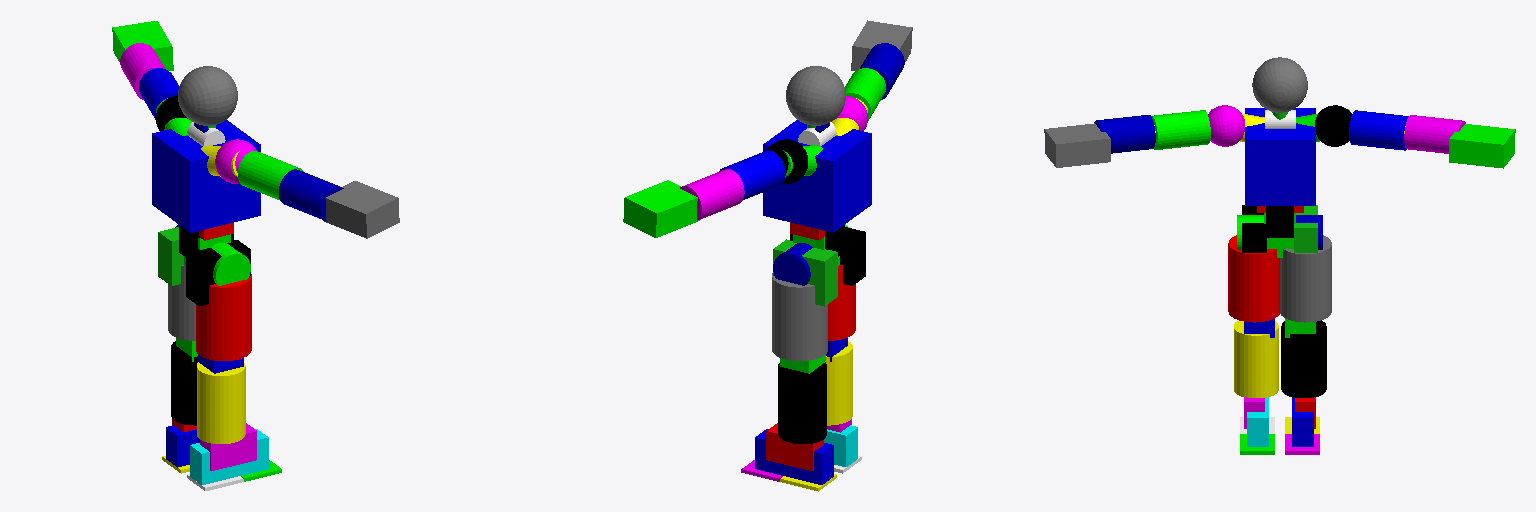
--- Facts derived from the render (not from the file) ---
Views: 3 orthographic renders of the robot side by side, from view 1: azimuth 30°, elevation 25°; view 2: azimuth 150°, elevation 25°; view 3: azimuth 270°, elevation 25°.
Robot: stickBot — 46 links, 45 joints (32 revolute, 13 fixed); root link root_link; default pose: joints at zero except 2 at the middle of their limits (r_shoulder_roll = 1.5, l_shoulder_roll = 1.5).
Links seen in each view (by area): view 1: chest, r_hip_3, r_lower_leg, r_hand, head, r_forearm, l_lower_leg, r_ankle_2, r_upper_arm, r_hip_2, l_hand, l_hip_3 (+9 smaller); view 2: chest, l_hip_3, l_lower_leg, l_hand, head, l_forearm, r_lower_leg, l_upper_arm, l_ankle_2, l_hip_2, r_hand, r_hip_3 (+9 smaller); view 3: chest, l_hip_3, r_hip_3, l_lower_leg, r_lower_leg, l_hand, r_hand, head, l_upper_arm, r_upper_arm, l_forearm, r_forearm (+7 smaller).
Link boxes in pixels (bbox=[...]): chest: bbox=[152, 120, 260, 232]; r_hip_3: bbox=[196, 274, 251, 360]; r_lower_leg: bbox=[197, 362, 245, 443]; r_hand: bbox=[323, 181, 399, 238]; head: bbox=[178, 66, 237, 125]; r_forearm: bbox=[279, 169, 343, 220]; l_lower_leg: bbox=[171, 341, 197, 425]; r_ankle_2: bbox=[190, 429, 268, 484]; r_upper_arm: bbox=[238, 151, 303, 199]; r_hip_2: bbox=[186, 240, 250, 306]; l_hand: bbox=[112, 21, 173, 70]; l_hip_3: bbox=[168, 265, 195, 340]; chest: bbox=[763, 120, 871, 232]; l_hip_3: bbox=[772, 273, 827, 360]; l_lower_leg: bbox=[778, 362, 826, 443]; l_hand: bbox=[623, 180, 699, 237]; head: bbox=[786, 66, 845, 125]; l_forearm: bbox=[680, 169, 744, 220]; r_lower_leg: bbox=[826, 341, 852, 425]; l_upper_arm: bbox=[719, 150, 785, 199]; l_ankle_2: bbox=[755, 429, 833, 484]; l_hip_2: bbox=[773, 239, 837, 306]; r_hand: bbox=[851, 20, 912, 70]; r_hip_3: bbox=[828, 265, 855, 340]; chest: bbox=[1245, 108, 1315, 205]; l_hip_3: bbox=[1280, 235, 1331, 322]; r_hip_3: bbox=[1228, 235, 1279, 322]; l_lower_leg: bbox=[1281, 320, 1326, 397]; r_lower_leg: bbox=[1234, 320, 1278, 397]; l_hand: bbox=[1449, 124, 1515, 168]; r_hand: bbox=[1044, 123, 1110, 167]; head: bbox=[1252, 57, 1307, 112]; l_upper_arm: bbox=[1349, 110, 1408, 150]; r_upper_arm: bbox=[1151, 110, 1210, 149]; l_forearm: bbox=[1404, 115, 1465, 153]; r_forearm: bbox=[1094, 115, 1155, 153].
Size in the robot's own frame: 0.3324 by 1.35 by 1.18 metres.
Geometry: primitives only (box / cylinder / sphere), no mesh files.

robot.urdf — stickBot:
<?xml version='1.0' encoding='UTF-8'?>
<robot name="stickBot">
  <link name="root_link">
    <inertial>
      <origin xyz="0.0 0.0 0.0" rpy="0.0 0.0 -1.5707963267948966"/>
      <mass value="2.52649319"/>
      <inertia ixx="0.02" ixy="0.0" ixz="0.0" iyy="0.02" iyz="0.0" izz="0.02"/>
      <!--TODO: Real inertia for this link is 0.01 but this makes model unusable-->
      <!--remove when https://github.com/icub-tech-iit/ergocub-gazebo-simulations/issues/18 is fixed -->
    </inertial>
    <visual>
      <geometry>
        <box size="0.093 0.095 0.142"/>
      </geometry>
      <material name="green"/>
      <origin xyz="0.0 0.0 0.0" rpy="0.0 0.0 -1.5707963267948966"/>
    </visual>
  </link>
  <link name="torso_1">
    <inertial>
      <origin xyz="0.0 0.0 0.075" rpy="0.0 0.0 -1.5707963267948966"/>
      <mass value="1.714262538"/>
      <inertia ixx="0.01" ixy="0.0" ixz="0.0" iyy="0.01" iyz="0.0" izz="0.01"/>
    </inertial>
    <visual>
      <geometry>
        <box size="0.081  0.124  0.1505"/>
      </geometry>
      <material name="black"/>
      <origin xyz="0.0 0.0 0.075" rpy="0.0 0.0 -1.5707963267948966"/>
    </visual>
  </link>
  <link name="torso_2">
    <inertial>
      <origin xyz="0.0 0.0 0.0669" rpy="0.0 0.0 -1.5707963267948966"/>
      <mass value="1.374672951"/>
      <inertia ixx="0.01" ixy="0.0" ixz="0.0" iyy="0.01" iyz="0.0" izz="0.01"/>
    </inertial>
    <visual>
      <geometry>
        <box size="0.1356 0.0897 0.1338"/>
      </geometry>
      <material name="red"/>
      <origin xyz="0.0 0.0 0.0669" rpy="0.0 0.0 -1.5707963267948966"/>
    </visual>
  </link>
  <link name="chest">
    <inertial>
      <origin xyz="0.0 0.0 0.09138800000000014" rpy="0.0 0.0 -1.5707963267948966"/>
      <mass value="5.771074695"/>
      <inertia ixx="0.0433194564569098" ixy="0.0" ixz="0.0" iyy="0.04108113070876732" iyz="0.0" izz="0.042305752759046314"/>
    </inertial>
    <visual>
      <geometry>
        <box size="0.2041 0.2152 0.2092"/>
      </geometry>
      <material name="blue"/>
      <origin xyz="0.0 0.0 0.09138800000000014" rpy="0.0 0.0 -1.5707963267948966"/>
    </visual>
  </link>
  <link name="r_shoulder_1">
    <inertial>
      <origin xyz="0.0 -0.07445 0.0" rpy="-0.19999999999999998 1.5549999999999993 -1.840815419889917"/>
      <mass value="1.380716446"/>
      <inertia ixx="0.01" ixy="0.0" ixz="0.0" iyy="0.01" iyz="0.0" izz="0.01"/>
    </inertial>
    <visual>
      <geometry>
        <cylinder radius="0.04" length="0.1569"/>
      </geometry>
      <material name="yellow"/>
      <origin xyz="0.0 -0.07445 0.0" rpy="-0.19999999999999998 1.5549999999999993 -1.840815419889917"/>
    </visual>
  </link>
  <link name="r_shoulder_2">
    <inertial>
      <origin xyz="0.0 0.0 0.0" rpy="-0.07156446033079357 0.06196992338505823 -1.8462350402422587"/>
      <mass value="0.304658373"/>
      <inertia ixx="0.01" ixy="0.0" ixz="0.0" iyy="0.01" iyz="0.0" izz="0.01"/>
    </inertial>
    <visual>
      <geometry>
        <sphere radius="0.06"/>
      </geometry>
      <material name="pink"/>
      <origin xyz="0.0 0.0 0.0" rpy="-0.07156446033079357 0.06196992338505823 -1.8462350402422587"/>
    </visual>
  </link>
  <link name="r_shoulder_3">
    <inertial>
      <origin xyz="0.0 0.0 -0.01" rpy="-0.07156446033079357 0.06196992338505823 -1.8462350402422587"/>
      <mass value="0.24467077"/>
      <inertia ixx="0.01" ixy="0.0" ixz="0.0" iyy="0.01" iyz="0.0" izz="0.01"/>
    </inertial>
    <visual>
      <geometry>
        <cylinder radius="0.03" length="0.03"/>
      </geometry>
      <material name="cyan"/>
      <origin xyz="0.0 0.0 -0.01" rpy="-0.07156446033079357 0.06196992338505823 -1.8462350402422587"/>
    </visual>
  </link>
  <link name="r_upper_arm">
    <inertial>
      <origin xyz="0.0 0.0 -0.05705" rpy="0.0 0.0 -1.8462350402422587"/>
      <mass value="1.960447492"/>
      <inertia ixx="0.01" ixy="0.0" ixz="0.0" iyy="0.01" iyz="0.0" izz="0.01"/>
    </inertial>
    <visual>
      <geometry>
        <cylinder radius="0.05" length="0.1581"/>
      </geometry>
      <material name="green"/>
      <origin xyz="0.0 0.0 -0.05705" rpy="0.0 0.0 -1.8462350402422587"/>
    </visual>
  </link>
  <link name="r_elbow_1">
    <inertial>
      <origin xyz="-0.02 0.0 -0.02" rpy="-0.07156446033079357 0.06196992338505823 -1.8462350402422587"/>
      <mass value="0.217609341"/>
      <inertia ixx="0.01" ixy="0.0" ixz="0.0" iyy="0.01" iyz="0.0" izz="0.01"/>
    </inertial>
    <visual>
      <geometry>
        <sphere radius="0.04"/>
      </geometry>
      <material name="white"/>
      <origin xyz="-0.02 0.0 -0.02" rpy="-0.07156446033079357 0.06196992338505823 -1.8462350402422587"/>
    </visual>
  </link>
  <link name="r_forearm">
    <inertial>
      <origin xyz="-0.005 0.0 -0.04001" rpy="0.0 0.0 -1.8462350402422587"/>
      <mass value="0.854281652"/>
      <inertia ixx="0.01" ixy="0.0" ixz="0.0" iyy="0.01" iyz="0.0" izz="0.01"/>
    </inertial>
    <visual>
      <geometry>
        <cylinder radius="0.05" length="0.1581"/>
      </geometry>
      <material name="dblue"/>
      <origin xyz="-0.005 0.0 -0.04001" rpy="0.0 0.0 -1.8462350402422587"/>
    </visual>
    <collision>
      <geometry>
        <cylinder radius="0.05" length="0.1581"/>
      </geometry>
      <origin xyz="-0.005 0.0 -0.04001" rpy="0.0 0.0 -1.8462350402422587"/>
    </collision>
  </link>
  <link name="r_wrist_1">
    <inertial>
      <origin xyz="-0.015 0.0 0.0" rpy="3.0700281932589997 1.3345926535897934 0.11659265358979323"/>
      <mass value="0.032535096"/>
      <inertia ixx="0.01" ixy="0.0" ixz="0.0" iyy="0.01" iyz="0.0" izz="0.01"/>
    </inertial>
    <visual>
      <geometry>
        <cylinder radius="0.011" length="0.04"/>
      </geometry>
      <material name="dgreen"/>
      <origin xyz="-0.015 0.0 0.0" rpy="3.0700281932589997 1.3345926535897934 0.11659265358979323"/>
    </visual>
  </link>
  <link name="r_hand">
    <inertial>
      <origin xyz="0.025 0.0 -0.08105" rpy="0.0 0.0 0.0"/>
      <mass value="0.2499009"/>
      <inertia ixx="0.01" ixy="0.0" ixz="0.0" iyy="0.01" iyz="0.0" izz="0.01"/>
    </inertial>
    <visual>
      <geometry>
        <box size="0.124  0.0736 0.1621"/>
      </geometry>
      <material name="gray"/>
      <origin xyz="0.025 0.0 -0.08105" rpy="0.0 0.0 0.0"/>
    </visual>
    <collision>
      <geometry>
        <box size="0.124  0.0736 0.1621"/>
      </geometry>
      <origin xyz="0.025 0.0 -0.08105" rpy="0.0 0.0 0.0"/>
    </collision>
  </link>
  <link name="l_shoulder_1">
    <inertial>
      <origin xyz="0.0 0.07445 0.0" rpy="0.19999999999999998 1.5549999999999993 1.840815419889917"/>
      <mass value="1.376687449"/>
      <inertia ixx="0.01" ixy="0.0" ixz="0.0" iyy="0.01" iyz="0.0" izz="0.01"/>
    </inertial>
    <visual>
      <geometry>
        <cylinder radius="0.04" length="0.1569"/>
      </geometry>
      <material name="green"/>
      <origin xyz="0.0 0.07445 0.0" rpy="0.19999999999999998 1.5549999999999993 1.840815419889917"/>
    </visual>
  </link>
  <link name="l_shoulder_2">
    <inertial>
      <origin xyz="0.0 0.0 0.0" rpy="-0.07156449498805928 -0.06196998841864677 -1.2953574498236577"/>
      <mass value="0.304658373"/>
      <inertia ixx="0.01" ixy="0.0" ixz="0.0" iyy="0.01" iyz="0.0" izz="0.01"/>
    </inertial>
    <visual>
      <geometry>
        <sphere radius="0.06"/>
      </geometry>
      <material name="black"/>
      <origin xyz="0.0 0.0 0.0" rpy="-0.07156449498805928 -0.06196998841864677 -1.2953574498236577"/>
    </visual>
  </link>
  <link name="l_shoulder_3">
    <inertial>
      <origin xyz="0.0 0.0 -0.01" rpy="-0.07156449498805928 -0.06196998841864677 -1.2953574498236577"/>
      <mass value="0.242239185"/>
      <inertia ixx="0.01" ixy="0.0" ixz="0.0" iyy="0.01" iyz="0.0" izz="0.01"/>
    </inertial>
    <visual>
      <geometry>
        <cylinder radius="0.03" length="0.03"/>
      </geometry>
      <material name="red"/>
      <origin xyz="0.0 0.0 -0.01" rpy="-0.07156449498805928 -0.06196998841864677 -1.2953574498236577"/>
    </visual>
  </link>
  <link name="l_upper_arm">
    <inertial>
      <origin xyz="0.0 0.0 -0.05705" rpy="0.0 0.0 -1.2953574498236577"/>
      <mass value="1.968325789"/>
      <inertia ixx="0.01" ixy="0.0" ixz="0.0" iyy="0.01" iyz="0.0" izz="0.01"/>
    </inertial>
    <visual>
      <geometry>
        <cylinder radius="0.05" length="0.1581"/>
      </geometry>
      <material name="blue"/>
      <origin xyz="0.0 0.0 -0.05705" rpy="0.0 0.0 -1.2953574498236577"/>
    </visual>
  </link>
  <link name="l_elbow_1">
    <inertial>
      <origin xyz="-0.02 0.0 -0.02" rpy="-0.07156449498805928 -0.06196998841864677 -1.2953574498236577"/>
      <mass value="0.217768231"/>
      <inertia ixx="0.01" ixy="0.0" ixz="0.0" iyy="0.01" iyz="0.0" izz="0.01"/>
    </inertial>
    <visual>
      <geometry>
        <sphere radius="0.04"/>
      </geometry>
      <material name="yellow"/>
      <origin xyz="-0.02 0.0 -0.02" rpy="-0.07156449498805928 -0.06196998841864677 -1.2953574498236577"/>
    </visual>
  </link>
  <link name="l_forearm">
    <inertial>
      <origin xyz="-0.005 0.0 -0.04001" rpy="0.0 0.0 -1.2953574498236577"/>
      <mass value="0.858696525"/>
      <inertia ixx="0.01" ixy="0.0" ixz="0.0" iyy="0.01" iyz="0.0" izz="0.01"/>
    </inertial>
    <visual>
      <geometry>
        <cylinder radius="0.05" length="0.1581"/>
      </geometry>
      <material name="pink"/>
      <origin xyz="-0.005 0.0 -0.04001" rpy="0.0 0.0 -1.2953574498236577"/>
    </visual>
    <collision>
      <geometry>
        <cylinder radius="0.05" length="0.1581"/>
      </geometry>
      <origin xyz="-0.005 0.0 -0.04001" rpy="0.0 0.0 -1.2953574498236577"/>
    </collision>
  </link>
  <link name="l_wrist_1">
    <inertial>
      <origin xyz="-0.015 0.0 0.0" rpy="3.0700281932589997 1.3345926535897934 0.11659265358979323"/>
      <mass value="0.032535096"/>
      <inertia ixx="0.01" ixy="0.0" ixz="0.0" iyy="0.01" iyz="0.0" izz="0.01"/>
    </inertial>
    <visual>
      <geometry>
        <cylinder radius="0.011" length="0.04"/>
      </geometry>
      <material name="cyan"/>
      <origin xyz="-0.015 0.0 0.0" rpy="3.0700281932589997 1.3345926535897934 0.11659265358979323"/>
    </visual>
  </link>
  <link name="l_hand">
    <inertial>
      <origin xyz="0.025 0.0 -0.08105" rpy="0.0 0.0 0.0"/>
      <mass value="0.249250207"/>
      <inertia ixx="0.01" ixy="0.0" ixz="0.0" iyy="0.01" iyz="0.0" izz="0.01"/>
    </inertial>
    <visual>
      <geometry>
        <box size="0.124  0.0736 0.1621"/>
      </geometry>
      <material name="green"/>
      <origin xyz="0.025 0.0 -0.08105" rpy="0.0 0.0 0.0"/>
    </visual>
    <collision>
      <geometry>
        <box size="0.124  0.0736 0.1621"/>
      </geometry>
      <origin xyz="0.025 0.0 -0.08105" rpy="0.0 0.0 0.0"/>
    </collision>
  </link>
  <link name="neck_1">
    <inertial>
      <origin xyz="0.004 0.0 0.03500000000000002" rpy="-1.5707963267948968 0.0 0.0"/>
      <mass value="0.359964395"/>
      <inertia ixx="0.01" ixy="0.0" ixz="0.0" iyy="0.01" iyz="0.0" izz="0.01"/>
    </inertial>
    <visual>
      <geometry>
        <cylinder radius="0.033" length="0.089"/>
      </geometry>
      <material name="white"/>
      <origin xyz="0.004 0.0 0.03500000000000002" rpy="-1.5707963267948968 0.0 0.0"/>
    </visual>
  </link>
  <link name="neck_2">
    <inertial>
      <origin xyz="-0.02 0.0 0.015" rpy="-1.5707963267948968 0.0 -1.5707963267948968"/>
      <mass value="0.118740971"/>
      <inertia ixx="0.01" ixy="0.0" ixz="0.0" iyy="0.01" iyz="0.0" izz="0.01"/>
    </inertial>
    <visual>
      <geometry>
        <cylinder radius="0.027" length="0.013"/>
      </geometry>
      <material name="dblue"/>
      <origin xyz="-0.02 0.0 0.015" rpy="-1.5707963267948968 0.0 -1.5707963267948968"/>
    </visual>
  </link>
  <link name="neck_3">
    <inertial>
      <origin xyz="0.0 0.0 0.028" rpy="0.0 0.0 -1.5707963267948968"/>
      <mass value="0.179822835"/>
      <inertia ixx="0.01" ixy="0.0" ixz="0.0" iyy="0.01" iyz="0.0" izz="0.01"/>
    </inertial>
    <visual>
      <geometry>
        <cylinder radius="0.0225" length="0.09"/>
      </geometry>
      <material name="dgreen"/>
      <origin xyz="0.0 0.0 0.028" rpy="0.0 0.0 -1.5707963267948968"/>
    </visual>
  </link>
  <link name="head">
    <inertial>
      <origin xyz="0.0 0.0 0.025" rpy="-1.5707963267948966 0.0 -1.5707963267948966"/>
      <mass value="1.831737118"/>
      <inertia ixx="0.001" ixy="0.0" ixz="0.0" iyy="0.001" iyz="0.0" izz="0.001"/>
    </inertial>
    <visual>
      <geometry>
        <sphere radius="0.08"/>
      </geometry>
      <material name="gray"/>
      <origin xyz="0.0 0.0 0.025" rpy="-1.5707963267948966 0.0 -1.5707963267948966"/>
    </visual>
  </link>
  <!--<link name="camera_tilt">
    <inertial>
      <origin xyz="0.0 0.0 0.0" rpy="0.0 0.0 0.0"/>
      <mass value="0.06"/>
      <inertia ixx="0.0001" ixy="0.0" ixz="0.0" iyy="0.0001" iyz="0.0" izz="0.0001"/>
    </inertial>
    <visual>
      <geometry>
        <cylinder radius="0.03" length="0.09"/>
      </geometry>
      <material name="blue"/>
      <origin xyz="0.0 0.0 0.0" rpy="0.0 0.0 0.0"/>
    </visual>
  </link> -->
 <!-- <link name="lidar">
    <inertial>
      <origin xyz="0.0 0.0 0.17" rpy="0.0 0.0 0.0"/>
      <mass value="0.2"/>
      <inertia ixx="0.001" ixy="0.0" ixz="0.0" iyy="0.001" iyz="0.0" izz="0.001"/>
    </inertial>
    <visual>
      <geometry>
        <cylinder radius="0.04" length="0.04"/>
      </geometry>
      <material name="blue"/>
      <origin xyz="0.0 0.0 0.0" rpy="0.0 0.0 0.0"/>
    </visual>
  </link> -->
  <link name="r_hip_1">
    <inertial>
      <origin xyz="-0.01 -0.041826 -0.01" rpy="1.5707963267948966 1.5707963267948966 0.0"/>
      <mass value="2.134290199"/>
      <inertia ixx="0.001" ixy="0.0" ixz="0.0" iyy="0.001" iyz="0.0" izz="0.001"/>
    </inertial>
    <visual>
      <geometry>
        <cylinder radius="0.0535" length="0.083652"/>
      </geometry>
      <material name="green"/>
      <origin xyz="-0.01 -0.041826 -0.01" rpy="1.5707963267948966 1.5707963267948966 0.0"/>
    </visual>
  </link>
  <link name="r_hip_2">
    <inertial>
      <origin xyz="0.02 0.0 -0.02" rpy="0.0 0.0 -1.5707963267948966"/>
      <mass value="1.779000764"/>
      <inertia ixx="0.001" ixy="0.0" ixz="0.0" iyy="0.001" iyz="0.0" izz="0.001"/>
    </inertial>
    <visual>
      <geometry>
        <box size="0.0702 0.1578 0.1315"/>
      </geometry>
      <material name="black"/>
      <origin xyz="0.02 0.0 -0.02" rpy="0.0 0.0 -1.5707963267948966"/>
    </visual>
  </link>
  <link name="r_hip_3">
    <inertial>
      <origin xyz="0.0 0.0 -0.049999999999999996" rpy="0.0 0.0 -1.5707963267948966"/>
      <mass value="2.1678368"/>
      <inertia ixx="0.0114770699784" ixy="0.0" ixz="0.0" iyy="0.0114770699784" iyz="0.0" izz="0.01"/>
    </inertial>
    <visual>
      <geometry>
        <cylinder radius="0.075" length="0.216"/>
      </geometry>
      <material name="red"/>
      <origin xyz="0.0 0.0 -0.049999999999999996" rpy="0.0 0.0 -1.5707963267948966"/>
    </visual>
  </link>
  <link name="r_upper_leg">
    <inertial>
      <origin xyz="0.0 0.0 -0.07" rpy="-1.5707963267948966 0.0 0.0"/>
      <mass value="0.980691904"/>
      <inertia ixx="0.001" ixy="0.0" ixz="0.0" iyy="0.001" iyz="0.0" izz="0.001"/>
    </inertial>
    <visual>
      <geometry>
        <box size="0.0908 0.1598 0.0878"/>
      </geometry>
      <material name="blue"/>
      <origin xyz="0.0 0.0 -0.07" rpy="-1.5707963267948966 0.0 0.0"/>
    </visual>
  </link>
  <link name="r_lower_leg">
    <inertial>
      <origin xyz="-0.02 0.015 -0.13" rpy="0.0 0.0 -1.5707963267948966"/>
      <mass value="5.074105512"/>
      <inertia ixx="0.022273208987050007" ixy="0.0" ixz="0.0" iyy="0.022273208987050007" iyz="0.0" izz="0.010719047894100001"/>
    </inertial>
    <visual>
      <geometry>
        <cylinder radius="0.065" length="0.2"/>
      </geometry>
      <material name="yellow"/>
      <origin xyz="-0.02 0.015 -0.13" rpy="0.0 0.0 -1.5707963267948966"/>
    </visual>
  </link>
  <link name="r_ankle_1">
    <inertial>
      <origin xyz="0.0 0.01 -0.015" rpy="0.0 1.5707963267948966 0.0"/>
      <mass value="0.346176903"/>
      <inertia ixx="0.001" ixy="0.0" ixz="0.0" iyy="0.001" iyz="0.0" izz="0.001"/>
    </inertial>
    <visual>
      <geometry>
        <box size="0.085207  0.0601674 0.14254  "/>
      </geometry>
      <material name="pink"/>
      <origin xyz="0.0 0.01 -0.015" rpy="0.0 1.5707963267948966 0.0"/>
    </visual>
  </link>
  <link name="r_ankle_2">
    <inertial>
      <origin xyz="0.06 0.0 -0.014" rpy="0.0 1.5707963267948966 0.0"/>
      <mass value="1.00828013"/>
      <inertia ixx="0.001" ixy="0.0" ixz="0.0" iyy="0.001" iyz="0.0" izz="0.001"/>
    </inertial>
    <visual>
      <geometry>
        <box size="0.0927 0.0634 0.2055"/>
      </geometry>
      <material name="cyan"/>
      <origin xyz="0.06 0.0 -0.014" rpy="0.0 1.5707963267948966 0.0"/>
    </visual>
  </link>
  <link name="r_foot_front">
    <inertial>
      <origin xyz="0.0 0.0 0.0" rpy="0.0 0.0 -1.5707963267948966"/>
      <mass value="0.17569926"/>
      <inertia ixx="0.001" ixy="0.0" ixz="0.0" iyy="0.001" iyz="0.0" izz="0.001"/>
    </inertial>
    <visual>
      <geometry>
        <box size="0.1    0.117  0.0103"/>
      </geometry>
      <material name="green"/>
      <origin xyz="0.0 0.0 0.0" rpy="0.0 0.0 -1.5707963267948966"/>
    </visual>
    <collision>
      <geometry>
        <box size="0.1    0.117  0.0103"/>
      </geometry>
      <origin xyz="0.0 0.0 0.0" rpy="0.0 0.0 -1.5707963267948966"/>
    </collision>
  </link>
  <link name="r_foot_rear">
    <inertial>
      <origin xyz="0.0 0.0 0.0" rpy="0.0 0.0 -1.5707963267948966"/>
      <mass value="0.174817799"/>
      <inertia ixx="0.001" ixy="0.0" ixz="0.0" iyy="0.001" iyz="0.0" izz="0.001"/>
    </inertial>
    <visual>
      <geometry>
        <box size="0.1    0.117  0.0103"/>
      </geometry>
      <material name="white"/>
      <origin xyz="0.0 0.0 0.0" rpy="0.0 0.0 -1.5707963267948966"/>
    </visual>
    <collision>
      <geometry>
        <box size="0.1    0.117  0.0103"/>
      </geometry>
      <origin xyz="0.0 0.0 0.0" rpy="0.0 0.0 -1.5707963267948966"/>
    </collision>
  </link>
  <link name="l_hip_1">
    <inertial>
      <origin xyz="-0.01 0.041826 -0.01" rpy="1.5707963267948966 1.5707963267948966 0.0"/>
      <mass value="2.108461113"/>
      <inertia ixx="0.001" ixy="0.0" ixz="0.0" iyy="0.001" iyz="0.0" izz="0.001"/>
    </inertial>
    <visual>
      <geometry>
        <cylinder radius="0.0535" length="0.083652"/>
      </geometry>
      <material name="dblue"/>
      <origin xyz="-0.01 0.041826 -0.01" rpy="1.5707963267948966 1.5707963267948966 0.0"/>
    </visual>
  </link>
  <link name="l_hip_2">
    <inertial>
      <origin xyz="0.02 0.0 -0.02" rpy="0.0 0.0 -1.5707963267948966"/>
      <mass value="1.781270621"/>
      <inertia ixx="0.001" ixy="0.0" ixz="0.0" iyy="0.001" iyz="0.0" izz="0.001"/>
    </inertial>
    <visual>
      <geometry>
        <box size="0.0702 0.1578 0.1315"/>
      </geometry>
      <material name="dgreen"/>
      <origin xyz="0.02 0.0 -0.02" rpy="0.0 0.0 -1.5707963267948966"/>
    </visual>
  </link>
  <link name="l_hip_3">
    <inertial>
      <origin xyz="0.0 0.0 -0.049999999999999996" rpy="0.0 0.0 -1.5707963267948966"/>
      <mass value="2.169151426"/>
      <inertia ixx="0.011484029937100501" ixy="0.0" ixz="0.0" iyy="0.011484029937100501" iyz="0.0" izz="0.01"/>
    </inertial>
    <visual>
      <geometry>
        <cylinder radius="0.075" length="0.216"/>
      </geometry>
      <material name="gray"/>
      <origin xyz="0.0 0.0 -0.049999999999999996" rpy="0.0 0.0 -1.5707963267948966"/>
    </visual>
  </link>
  <link name="l_upper_leg">
    <inertial>
      <origin xyz="0.0 0.0 -0.07" rpy="-1.5707963267948966 0.0 0.0"/>
      <mass value="0.968264435"/>
      <inertia ixx="0.001" ixy="0.0" ixz="0.0" iyy="0.001" iyz="0.0" izz="0.001"/>
    </inertial>
    <visual>
      <geometry>
        <box size="0.0908 0.1598 0.0878"/>
      </geometry>
      <material name="green"/>
      <origin xyz="0.0 0.0 -0.07" rpy="-1.5707963267948966 0.0 0.0"/>
    </visual>
  </link>
  <link name="l_lower_leg">
    <inertial>
      <origin xyz="-0.02 -0.015 -0.13" rpy="0.0 0.0 -1.5707963267948966"/>
      <mass value="5.063049414"/>
      <inertia ixx="0.022224677323537508" ixy="0.0" ixz="0.0" iyy="0.022224677323537508" iyz="0.0" izz="0.010695691887075"/>
    </inertial>
    <visual>
      <geometry>
        <cylinder radius="0.065" length="0.2"/>
      </geometry>
      <material name="black"/>
      <origin xyz="-0.02 -0.015 -0.13" rpy="0.0 0.0 -1.5707963267948966"/>
    </visual>
  </link>
  <link name="l_ankle_1">
    <inertial>
      <origin xyz="0.0 -0.01 -0.015" rpy="0.0 1.5707963267948966 0.0"/>
      <mass value="0.3461769035"/>
      <inertia ixx="0.001" ixy="0.0" ixz="0.0" iyy="0.001" iyz="0.0" izz="0.001"/>
    </inertial>
    <visual>
      <geometry>
        <box size="0.085207  0.0601674 0.14254  "/>
      </geometry>
      <material name="red"/>
      <origin xyz="0.0 -0.01 -0.015" rpy="0.0 1.5707963267948966 0.0"/>
    </visual>
  </link>
  <link name="l_ankle_2">
    <inertial>
      <origin xyz="0.06 0.0 -0.014" rpy="0.0 1.5707963267948966 0.0"/>
      <mass value="1.011533592"/>
      <inertia ixx="0.001" ixy="0.0" ixz="0.0" iyy="0.001" iyz="0.0" izz="0.001"/>
    </inertial>
    <visual>
      <geometry>
        <box size="0.0927 0.0634 0.2055"/>
      </geometry>
      <material name="blue"/>
      <origin xyz="0.06 0.0 -0.014" rpy="0.0 1.5707963267948966 0.0"/>
    </visual>
  </link>
  <link name="l_foot_rear">
    <inertial>
      <origin xyz="0.0 0.0 0.0" rpy="0.0 0.0 -1.5707963267948966"/>
      <mass value="0.174597434"/>
      <inertia ixx="0.01" ixy="0.0" ixz="0.0" iyy="0.01" iyz="0.0" izz="0.01"/>
    </inertial>
    <visual>
      <geometry>
        <box size="0.1    0.117  0.0103"/>
      </geometry>
      <material name="yellow"/>
      <origin xyz="0.0 0.0 0.0" rpy="0.0 0.0 -1.5707963267948966"/>
    </visual>
    <collision>
      <geometry>
        <box size="0.1    0.117  0.0103"/>
      </geometry>
      <origin xyz="0.0 0.0 0.0" rpy="0.0 0.0 -1.5707963267948966"/>
    </collision>
  </link>
  <link name="l_foot_front">
    <inertial>
      <origin xyz="0.0 0.0 0.0" rpy="0.0 0.0 -1.5707963267948966"/>
      <mass value="0.175038164"/>
      <inertia ixx="0.001" ixy="0.0" ixz="0.0" iyy="0.001" iyz="0.0" izz="0.001"/>
    </inertial>
    <visual>
      <geometry>
        <box size="0.1    0.117  0.0103"/>
      </geometry>
      <material name="pink"/>
      <origin xyz="0.0 0.0 0.0" rpy="0.0 0.0 -1.5707963267948966"/>
    </visual>
    <collision>
      <geometry>
        <box size="0.1    0.117  0.0103"/>
      </geometry>
      <origin xyz="0.0 0.0 0.0" rpy="0.0 0.0 -1.5707963267948966"/>
    </collision>
  </link>
  <link name="base_link"/>
  <link name="l_sole"/>
  <link name="r_sole"/>
  <link name="imu_frame"/>
  <joint name="torso_roll" type="revolute">
    <dynamics damping="2.0" friction="0.0"/>
    <limit effort="50000.0" velocity="120.0" lower="-0.4014257279586958" upper="0.4014257279586958"/>
    <parent link="root_link"/>
    <child link="torso_1"/>
    <axis xyz="-1.  0.  0."/>
    <origin xyz="0.0 0.0 0.0" rpy="0.0 0.0 0.0"/>
  </joint>
  <joint name="torso_pitch" type="revolute">
    <dynamics damping="2.0" friction="0.0"/>
    <limit effort="50000.0" velocity="120.0" lower="-0.3141592653589793" upper="0.7853981633974483"/>
    <parent link="torso_1"/>
    <child link="torso_2"/>
    <axis xyz="0. 1. 0."/>
    <origin xyz="0.0 0.0 0.0725" rpy="0.0 0.0 0.0"/>
  </joint>
  <joint name="torso_yaw" type="revolute">
    <dynamics damping="2.0" friction="0.0"/>
    <limit effort="50000.0" velocity="120.0" lower="-0.7504915783575618" upper="0.7504915783575618"/>
    <parent link="torso_2"/>
    <child link="chest"/>
    <axis xyz=" 0.  0. -1."/>
    <origin xyz="0.0 0.0 0.06447" rpy="0.0 0.0 0.0"/>
  </joint>
  <joint name="r_shoulder_pitch" type="revolute">
    <dynamics damping="2.0" friction="0.0"/>
    <limit effort="50000.0" velocity="120.0" lower="-1.53588974175501" upper="0.22689280275926285"/>
    <parent link="chest"/>
    <child link="r_shoulder_1"/>
    <axis xyz="0. 1. 0."/>
    <origin xyz="-0.03 -0.055555 0.163" rpy="-0.25326164431680925 0.0 0.26179970938509745"/>
  </joint>
  <joint name="r_shoulder_roll" type="revolute">
    <dynamics damping="2.0" friction="0.0"/>
    <limit effort="50000.0" velocity="120.0" lower="0.20943951023931956" upper="2.792526803190927"/>
    <parent link="r_shoulder_1"/>
    <child link="r_shoulder_2"/>
    <axis xyz="-1.00000000e+00  4.21050217e-08  2.46304855e-08"/>
    <origin xyz="0.007489008185044645 -0.11150041046657978 0.0004027858966975245" rpy="0.17453306234069357 -0.053747792579130614 0.0"/>
  </joint>
  <joint name="r_arm_ft_sensor" type="fixed">
    <dynamics damping="0.1"/>
    <parent link="r_shoulder_2"/>
    <child link="r_shoulder_3"/>
    <axis xyz="1. 0. 0."/>
    <origin xyz="-0.006849946385389875 2.1904996055921444e-07 -0.05429998157789099" rpy="0.0 0.0 0.0"/>
  </joint>
  <joint name="r_shoulder_yaw" type="revolute">
    <dynamics damping="2.0" friction="0.0"/>
    <limit effort="50000.0" velocity="120.0" lower="-0.8726646259971648" upper="1.3962634015954636"/>
    <parent link="r_shoulder_3"/>
    <child link="r_upper_arm"/>
    <axis xyz="-3.78762082e-08  2.80519699e-08  1.00000000e+00"/>
    <origin xyz="0.0 4.2183273077367467e-07 -0.022499941373153573" rpy="0.0 0.0 0.0"/>
  </joint>
  <joint name="r_elbow" type="revolute">
    <dynamics damping="2.0" friction="0.0"/>
    <limit effort="50000.0" velocity="120.0" lower="-0.05235987755982989" upper="1.3089969389957472"/>
    <parent link="r_upper_arm"/>
    <child link="r_elbow_1"/>
    <axis xyz=" 2.49495760e-07 -1.00000000e+00  2.79424794e-08"/>
    <origin xyz="0.009999931922603816 0.0014996401320274133 -0.12369999999999999" rpy="0.0 0.0 0.0"/>
  </joint>
  <joint name="r_wrist_prosup" type="revolute">
    <dynamics damping="2.0" friction="0.0"/>
    <limit effort="50000.0" velocity="120.0" lower="-1.53588974175501" upper="1.53588974175501"/>
    <parent link="r_elbow_1"/>
    <child link="r_forearm"/>
    <axis xyz="-3.78762082e-08  2.80519699e-08  1.00000000e+00"/>
    <origin xyz="-0.014999869468812953 -0.001999649905318951 -0.05530006367251966" rpy="0.0 0.0 0.0"/>
  </joint>
  <joint name="r_wrist_pitch" type="revolute">
    <dynamics damping="2.0" friction="0.0"/>
    <limit effort="50000.0" velocity="120.0" lower="-1.2217304763960306" upper="0.4363323129985824"/>
    <parent link="r_forearm"/>
    <child link="r_wrist_1"/>
    <axis xyz=" 1.00000000e+00 -4.21050217e-08 -2.46304855e-08"/>
    <origin xyz="0.016299953353948633 -0.002007442890811839 -0.10749999999999998" rpy="0.0 0.0 0.0"/>
  </joint>
  <joint name="r_wrist_yaw" type="revolute">
    <dynamics damping="2.0"/>
    <limit effort="50000.0" velocity="120.0" lower="-0.2617993877991494" upper="0.6108652381980153"/>
    <parent link="r_wrist_1"/>
    <child link="r_hand"/>
    <axis xyz="-2.49495760e-07  1.00000000e+00 -2.79424794e-08"/>
    <origin xyz="-0.016300122874272734 0.0069993900510918194 0.0" rpy="0.0 0.0 0.0"/>
  </joint>
  <joint name="l_shoulder_pitch" type="revolute">
    <dynamics damping="2.0" friction="0.0"/>
    <limit effort="50000.0" velocity="120.0" lower="-1.53588974175501" upper="0.22689280275926285"/>
    <parent link="chest"/>
    <child link="l_shoulder_1"/>
    <axis xyz="0. 1. 0."/>
    <origin xyz="-0.03 0.055555 0.163" rpy="0.25326164431680925 0.0 -0.26179970938509745"/>
  </joint>
  <joint name="l_shoulder_roll" type="revolute">
    <dynamics damping="2.0" friction="0.0"/>
    <limit effort="50000.0" velocity="120.0" lower="0.20943951023931956" upper="2.792526803190927"/>
    <parent link="l_shoulder_1"/>
    <child link="l_shoulder_2"/>
    <axis xyz=" 1.00000000e+00  2.03482562e-07 -4.02302354e-08"/>
    <origin xyz="0.007489008185044645 0.11150041046657978 0.0004027858966975245" rpy="-0.17453306234069357 -0.053747792579130614 0.0"/>
  </joint>
  <joint name="l_arm_ft_sensor" type="fixed">
    <dynamics damping="0.1"/>
    <parent link="l_shoulder_2"/>
    <child link="l_shoulder_3"/>
    <axis xyz="1. 0. 0."/>
    <origin xyz="-0.004350133156978329 3.632573233880443e-07 -0.05430003872406172" rpy="0.0 0.0 0.0"/>
  </joint>
  <joint name="l_shoulder_yaw" type="revolute">
    <dynamics damping="2.0" friction="0.0"/>
    <limit effort="50000.0" velocity="120.0" lower="-0.8726646259971648" upper="1.3962634015954636"/>
    <parent link="l_shoulder_3"/>
    <child link="l_upper_arm"/>
    <axis xyz=" 2.22764683e-08 -4.39378512e-08 -1.00000000e+00"/>
    <origin xyz="0.0 -4.2345248449371375e-07 -0.02249994137312443" rpy="0.0 0.0 0.0"/>
  </joint>
  <joint name="l_elbow" type="revolute">
    <dynamics damping="2.0" friction="0.0"/>
    <limit effort="50000.0" velocity="120.0" lower="-0.05235987755982989" upper="1.3089969389957472"/>
    <parent link="l_upper_arm"/>
    <child link="l_elbow_1"/>
    <axis xyz="-8.81182175e-08 -1.00000000e+00  4.40473491e-08"/>
    <origin xyz="0.009999930234919404 -0.001499647423428896 -0.12369999999999999" rpy="0.0 0.0 0.0"/>
  </joint>
  <joint name="l_wrist_prosup" type="revolute">
    <dynamics damping="2.0" friction="0.0"/>
    <limit effort="50000.0" velocity="120.0" lower="-1.53588974175501" upper="1.53588974175501"/>
    <parent link="l_elbow_1"/>
    <child link="l_forearm"/>
    <axis xyz=" 2.22764683e-08 -4.39378512e-08 -1.00000000e+00"/>
    <origin xyz="-0.014999870654177704 0.0019996435036348514 -0.055300063582479825" rpy="0.0 0.0 0.0"/>
  </joint>
  <joint name="l_wrist_pitch" type="revolute">
    <dynamics damping="2.0" friction="0.0"/>
    <limit effort="50000.0" velocity="120.0" lower="-1.2217304763960306" upper="0.4363323129985824"/>
    <parent link="l_forearm"/>
    <child link="l_wrist_1"/>
    <axis xyz="-1.00000000e+00 -2.03482562e-07  4.02302354e-08"/>
    <origin xyz="0.016600015934286182 0.002006895218072541 -0.10749999999999998" rpy="0.0 0.0 0.0"/>
  </joint>
  <joint name="l_wrist_yaw" type="revolute">
    <dynamics damping="2.0" friction="0.0"/>
    <limit effort="50000.0" velocity="120.0" lower="-0.2617993877991494" upper="0.6108652381980153"/>
    <parent link="l_wrist_1"/>
    <child link="l_hand"/>
    <axis xyz=" 8.81182175e-08  1.00000000e+00 -4.40473491e-08"/>
    <origin xyz="-0.016300121744729387 -0.0069993926815711816 0.0" rpy="0.0 0.0 0.0"/>
  </joint>
  <joint name="neck_fixed_joint" type="fixed">
    <dynamics damping="0.1"/>
    <parent link="chest"/>
    <child link="neck_1"/>
    <axis xyz="1. 0. 0."/>
    <origin xyz="-0.00378849 0.0 0.1683" rpy="0.0 0.0 0.0"/>
  </joint>
  <joint name="neck_pitch" type="revolute">
    <dynamics damping="2.0" friction="0.0"/>
    <limit effort="50000.0" velocity="120.0" lower="-0.5235987755982988" upper="0.3839724354387525"/>
    <parent link="neck_1"/>
    <child link="neck_2"/>
    <axis xyz=" 0. -1.  0."/>
    <origin xyz="0.00865 0.0 0.049000000000000016" rpy="0.0 0.0 0.0"/>
  </joint>
  <joint name="neck_roll" type="revolute">
    <dynamics damping="2.0" friction="0.0"/>
    <limit effort="50000.0" velocity="120.0" lower="-0.3490658503988659" upper="0.3490658503988659"/>
    <parent link="neck_2"/>
    <child link="neck_3"/>
    <axis xyz="1. 0. 0."/>
    <origin xyz="0.0 0.0 0.009500499999999995" rpy="0.0 0.0 0.0"/>
  </joint>
  <joint name="neck_yaw" type="revolute">
    <dynamics damping="2.0" friction="0.0"/>
    <limit effort="50000.0" velocity="120.0" lower="-0.7853981633974483" upper="0.7853981633974483"/>
    <parent link="neck_3"/>
    <child link="head"/>
    <axis xyz="-1.62554992e-21 -1.09999837e-15  1.00000000e+00"/>
    <origin xyz="0.0 0.0 0.06915000000000002" rpy="0.0 0.0 0.0"/>
  </joint>
 <!-- <joint name="camera_tilt_joint" type="revolute">
    <dynamics damping="0.06" friction="0.0"/>
    <limit effort="50000.0" velocity="120.0" lower="-0.7853981633974483" upper="0.7853981633974483"/>
    <parent link="head"/>
    <child link="camera_tilt"/>
    <axis xyz="0. 0. 1."/>
    <origin xyz="0.055513 0.00017 0.076925" rpy="1.5708 3.1415 0.0"/>
  </joint> -->
  <!--<joint name="lidar_joint" type="revolute">
    <dynamics damping="0.06" friction="0.0"/>
    <limit effort="50000.0" velocity="120.0" lower="-0.7853981633974483" upper="0.7853981633974483"/>
    <parent link="head"/>
    <child link="lidar"/>
    <axis xyz="0. 0. 1."/>
    <origin xyz="0.00117 0.00115 0.1268" rpy="0.0 0.0 0.0"/>
  </joint>-->
  <joint name="r_hip_pitch" type="revolute">
    <dynamics damping="2.0" friction="0.0"/>
    <limit effort="50000.0" velocity="120.0" lower="-0.7853981633974483" upper="2.007128639793479"/>
    <parent link="root_link"/>
    <child link="r_hip_1"/>
    <axis xyz=" 0. -1.  0."/>
    <origin xyz="0.0216 -0.040549999999999996 0.0" rpy="0.0 0.0 0.0"/>
  </joint>
  <joint name="r_hip_roll" type="revolute">
    <dynamics damping="2.0" friction="0.0"/>
    <limit effort="50000.0" velocity="120.0" lower="-0.17453292519943295" upper="2.007128639793479"/>
    <parent link="r_hip_1"/>
    <child link="r_hip_2"/>
    <axis xyz="-1.  0.  0."/>
    <origin xyz="-0.0473 -0.03310000000000001 -0.009000000000000008" rpy="0.0 0.0 0.0"/>
  </joint>
  <joint name="r_leg_ft_sensor" type="fixed">
    <dynamics damping="0.1"/>
    <parent link="r_hip_2"/>
    <child link="r_hip_3"/>
    <axis xyz="1. 0. 0."/>
    <origin xyz="0.036699999999999997 0.0 -0.08969999999999995" rpy="0.0 0.0 0.0"/>
  </joint>
  <joint name="r_hip_yaw" type="revolute">
    <dynamics damping="2.0" friction="0.0"/>
    <limit effort="50000.0" velocity="120.0" lower="-1.3962634015954636" upper="1.3962634015954636"/>
    <parent link="r_hip_3"/>
    <child link="r_upper_leg"/>
    <axis xyz=" 0.  0. -1."/>
    <origin xyz="0.0 0.015000000000000006 -0.07089999999999999" rpy="0.0 0.0 0.0"/>
  </joint>
  <joint name="r_knee" type="revolute">
    <dynamics damping="2.0" friction="0.0"/>
    <limit effort="50000.0" velocity="120.0" lower="-1.2217304763960306" upper="0.08726646259971647"/>
    <parent link="r_upper_leg"/>
    <child link="r_lower_leg"/>
    <axis xyz=" 0. -1.  0."/>
    <origin xyz="0.015000000000000003 -0.0249 -0.10619999999999999" rpy="0.0 0.0 0.0"/>
  </joint>
  <joint name="r_ankle_pitch" type="revolute">
    <dynamics damping="2.0" friction="0.0"/>
    <limit effort="50000.0" velocity="120.0" lower="-0.7853981633974483" upper="0.7853981633974483"/>
    <parent link="r_lower_leg"/>
    <child link="r_ankle_1"/>
    <axis xyz="0. 1. 0."/>
    <origin xyz="0.0 0.0005000000000000004 -0.255989" rpy="0.0 0.0 0.0"/>
  </joint>
  <joint name="r_ankle_roll" type="revolute">
    <dynamics damping="2.0" friction="0.0"/>
    <limit effort="50000.0" velocity="120.0" lower="-0.4363323129985824" upper="0.4363323129985824"/>
    <parent link="r_ankle_1"/>
    <child link="r_ankle_2"/>
    <axis xyz="-1.  0.  0."/>
    <origin xyz="-0.052750000000000005 0.018200000000000008 -0.03500000000000003" rpy="0.0 0.0 0.0"/>
  </joint>
  <joint name="r_foot_front_ft_sensor" type="fixed">
    <dynamics damping="0.1"/>
    <parent link="r_ankle_2"/>
    <child link="r_foot_front"/>
    <axis xyz="1. 0. 0."/>
    <origin xyz="0.13525 0.0 -0.06579999999999997" rpy="0.0 0.0 0.0"/>
  </joint>
  <joint name="r_foot_rear_ft_sensor" type="fixed">
    <dynamics damping="0.1"/>
    <parent link="r_ankle_2"/>
    <child link="r_foot_rear"/>
    <axis xyz="1. 0. 0."/>
    <origin xyz="0.016 0.0 -0.06579999999999997" rpy="0.0 0.0 0.0"/>
  </joint>
  <joint name="l_hip_pitch" type="revolute">
    <dynamics damping="2.0" friction="0.0"/>
    <limit effort="50000.0" velocity="120.0" lower="-0.7853981633974483" upper="2.007128639793479"/>
    <parent link="root_link"/>
    <child link="l_hip_1"/>
    <axis xyz=" 0. -1.  0."/>
    <origin xyz="0.0216 0.04045000000000001 0.0" rpy="0.0 0.0 0.0"/>
  </joint>
  <joint name="l_hip_roll" type="revolute">
    <dynamics damping="2.0" friction="0.0"/>
    <limit effort="50000.0" velocity="120.0" lower="-0.17453292519943295" upper="2.007128639793479"/>
    <parent link="l_hip_1"/>
    <child link="l_hip_2"/>
    <axis xyz="1. 0. 0."/>
    <origin xyz="-0.04725 0.0331 -0.009000000000000008" rpy="0.0 0.0 0.0"/>
  </joint>
  <joint name="l_leg_ft_sensor" type="fixed">
    <dynamics damping="0.1"/>
    <parent link="l_hip_2"/>
    <child link="l_hip_3"/>
    <axis xyz="1. 0. 0."/>
    <origin xyz="0.036699999999999997 0.0 -0.08969999999999995" rpy="0.0 0.0 0.0"/>
  </joint>
  <joint name="l_hip_yaw" type="revolute">
    <dynamics damping="2.0" friction="0.0"/>
    <limit effort="50000.0" velocity="120.0" lower="-1.3962634015954636" upper="1.3962634015954636"/>
    <parent link="l_hip_3"/>
    <child link="l_upper_leg"/>
    <axis xyz="0. 0. 1."/>
    <origin xyz="0.0 -0.015000000000000006 -0.07089999999999999" rpy="0.0 0.0 0.0"/>
  </joint>
  <joint name="l_knee" type="revolute">
    <dynamics damping="2.0" friction="0.0"/>
    <limit effort="50000.0" velocity="120.0" lower="-1.2217304763960306" upper="0.08726646259971647"/>
    <parent link="l_upper_leg"/>
    <child link="l_lower_leg"/>
    <axis xyz=" 0. -1.  0."/>
    <origin xyz="0.015 0.024900000000000012 -0.10619999999999999" rpy="0.0 0.0 0.0"/>
  </joint>
  <joint name="l_ankle_pitch" type="revolute">
    <dynamics damping="2.0" friction="0.0"/>
    <limit effort="50000.0" velocity="120.0" lower="-0.7853981633974483" upper="0.7853981633974483"/>
    <parent link="l_lower_leg"/>
    <child link="l_ankle_1"/>
    <axis xyz="0. 1. 0."/>
    <origin xyz="0.0 -0.0005000000000000004 -0.255989" rpy="0.0 0.0 0.0"/>
  </joint>
  <joint name="l_ankle_roll" type="revolute">
    <dynamics damping="2.0" friction="0.0"/>
    <limit effort="50000.0" velocity="120.0" lower="-0.4363323129985824" upper="0.4363323129985824"/>
    <parent link="l_ankle_1"/>
    <child link="l_ankle_2"/>
    <axis xyz="1. 0. 0."/>
    <origin xyz="-0.052750000000000005 -0.018200000000000008 -0.03500000000000003" rpy="0.0 0.0 0.0"/>
  </joint>
  <joint name="l_foot_rear_ft_sensor" type="fixed">
    <dynamics damping="0.1"/>
    <parent link="l_ankle_2"/>
    <child link="l_foot_rear"/>
    <axis xyz="1. 0. 0."/>
    <origin xyz="0.016 0.0 -0.06579999999999997" rpy="0.0 0.0 0.0"/>
  </joint>
  <joint name="l_foot_front_ft_sensor" type="fixed">
    <dynamics damping="0.1"/>
    <parent link="l_ankle_2"/>
    <child link="l_foot_front"/>
    <axis xyz="1. 0. 0."/>
    <origin xyz="0.13524999999999998 0.0 -0.06579999999999997" rpy="0.0 0.0 0.0"/>
  </joint>
  <joint name="l_sole_fixed_joint" type="fixed">
    <dynamics damping="0.1"/>
    <parent link="l_foot_rear"/>
    <child link="l_sole"/>
    <axis xyz="1. 0. 0."/>
    <origin xyz="0.05963 0.0 0.0" rpy="0.0 0.0 0.0"/>
  </joint>
  <joint name="r_sole_fixed_joint" type="fixed">
    <dynamics damping="0.1"/>
    <parent link="r_foot_rear"/>
    <child link="r_sole"/>
    <axis xyz="1. 0. 0."/>
    <origin xyz="0.05963000000000001 0.0 0.0" rpy="0.0 0.0 0.0"/>
  </joint>
  <joint name="base_link_fixed_joint" type="fixed">
    <parent link="root_link"/>
    <child link="base_link"/>
    <axis xyz="0 0 0"/>
    <origin xyz="0.0 0.0 0.0" rpy="0.0 -0.0 0.0"/>
  </joint>
  <joint name="imu_frame_fixed_joint" type="fixed">
    <dynamics damping="0.1"/>
    <parent link="head"/>
    <child link="imu_frame"/>
    <axis xyz="1. 0. 0."/>
    <origin xyz="0.0034999999997785457 0.0054999999863750895 0.1013340000004441" rpy="-3.141592653589793 0.0 -1.570796326794897"/>
  </joint>
  <material name="green">
    <color rgba="0. 1. 0. 1."/>
  </material>
  <material name="black">
    <color rgba="0. 0. 0. 1."/>
  </material>
  <material name="red">
    <color rgba="1. 0. 0. 1."/>
  </material>
  <material name="blue">
    <color rgba="0. 0. 1. 1."/>
  </material>
  <material name="yellow">
    <color rgba="1. 1. 0. 1."/>
  </material>
  <material name="pink">
    <color rgba="1. 0. 1. 1."/>
  </material>
  <material name="cyan">
    <color rgba="0. 1. 1. 1."/>
  </material>
  <material name="white">
    <color rgba="1. 1. 1. 1."/>
  </material>
  <material name="dblue">
    <color rgba="0.  0.  0.8 1. "/>
  </material>
  <material name="dgreen">
    <color rgba="0.1 0.8 0.1 1. "/>
  </material>
  <material name="gray">
    <color rgba="0.5 0.5 0.5 1. "/>
  </material>
 <gazebo reference="r_arm_ft_sensor">
    <preserveFixedJoint>true</preserveFixedJoint>
    <disableFixedJointLumping>true</disableFixedJointLumping>
  </gazebo>
  <gazebo reference="l_arm_ft_sensor">
    <preserveFixedJoint>true</preserveFixedJoint>
    <disableFixedJointLumping>true</disableFixedJointLumping>
  </gazebo>
  <gazebo>
    <plugin name="controlboard_torso" filename="libgazebo_yarp_controlboard.so">
      <yarpConfigurationFile>model://iCub/conf_stickBot/gazebo_icub_torso/gazebo_icub_torso.ini</yarpConfigurationFile>
    </plugin>
  </gazebo>
  <gazebo reference="torso_pitch">
    <implicitSpringDamper>1</implicitSpringDamper>
  </gazebo>
  <gazebo reference="torso_roll">
    <implicitSpringDamper>1</implicitSpringDamper>
  </gazebo>
  <gazebo reference="torso_yaw">
    <implicitSpringDamper>1</implicitSpringDamper>
  </gazebo>
  <gazebo reference="r_shoulder_pitch">
    <implicitSpringDamper>1</implicitSpringDamper>
  </gazebo>
  <gazebo reference="r_shoulder_roll">
    <implicitSpringDamper>1</implicitSpringDamper>
  </gazebo>
  <gazebo reference="r_shoulder_yaw">
    <implicitSpringDamper>1</implicitSpringDamper>
  </gazebo>
  <gazebo reference="l_shoulder_pitch">
    <implicitSpringDamper>1</implicitSpringDamper>
  </gazebo>
  <gazebo reference="l_shoulder_roll">
    <implicitSpringDamper>1</implicitSpringDamper>
  </gazebo>
  <gazebo reference="l_shoulder_yaw">
    <implicitSpringDamper>1</implicitSpringDamper>
  </gazebo>
  <gazebo reference="l_leg_ft_sensor">
    <preserveFixedJoint>true</preserveFixedJoint>
    <disableFixedJointLumping>true</disableFixedJointLumping>
  </gazebo>
  <gazebo reference="l_foot_front_ft_sensor">
    <preserveFixedJoint>true</preserveFixedJoint>
    <disableFixedJointLumping>true</disableFixedJointLumping>
  </gazebo>
  <gazebo reference="l_foot_rear_ft_sensor">
    <preserveFixedJoint>true</preserveFixedJoint>
    <disableFixedJointLumping>true</disableFixedJointLumping>
  </gazebo>
  <gazebo reference="l_foot_front">
    <collision>
      <surface>
        <bounce>
          <restitution_coefficient>0</restitution_coefficient>
          <threshold>100000</threshold>
        </bounce>
      </surface>
    </collision>
    <maxContacts>4</maxContacts>
    <kp>18000000</kp>
    <kd>100</kd>
    <maxVel>100</maxVel>
    <minDepth>0.0001</minDepth>
    <mu1>1</mu1>
    <mu2>1</mu2>
    <fdir1>0 0 0</fdir1>
  </gazebo>
  <gazebo reference="l_foot_rear">
    <collision>
      <surface>
        <bounce>
          <restitution_coefficient>0</restitution_coefficient>
          <threshold>100000</threshold>
        </bounce>
      </surface>
    </collision>
    <maxContacts>4</maxContacts>
    <kp>18000000</kp>
    <kd>100</kd>
    <maxVel>100</maxVel>
    <minDepth>0.0001</minDepth>
    <mu1>1</mu1>
    <mu2>1</mu2>
    <fdir1>0 0 0</fdir1>
  </gazebo>
  <gazebo>
    <plugin name="controlboard_left_leg" filename="libgazebo_yarp_controlboard.so">
      <yarpConfigurationFile>model://iCub/conf_stickBot/gazebo_icub_left_leg/gazebo_icub_left_leg.ini</yarpConfigurationFile>
    </plugin>
  </gazebo>
  <gazebo reference="l_hip_pitch">
    <implicitSpringDamper>1</implicitSpringDamper>
  </gazebo>
  <gazebo reference="l_hip_roll">
    <implicitSpringDamper>1</implicitSpringDamper>
  </gazebo>
  <gazebo reference="l_hip_yaw">
    <implicitSpringDamper>1</implicitSpringDamper>
  </gazebo>
  <gazebo reference="l_knee">
    <implicitSpringDamper>1</implicitSpringDamper>
  </gazebo>
  <gazebo reference="l_ankle_pitch">
    <implicitSpringDamper>1</implicitSpringDamper>
  </gazebo>
  <gazebo reference="l_ankle_roll">
    <implicitSpringDamper>1</implicitSpringDamper>
  </gazebo>
  <gazebo reference="r_leg_ft_sensor">
    <preserveFixedJoint>true</preserveFixedJoint>
    <disableFixedJointLumping>true</disableFixedJointLumping>
  </gazebo>
  <gazebo reference="r_foot_front_ft_sensor">
    <preserveFixedJoint>true</preserveFixedJoint>
    <disableFixedJointLumping>true</disableFixedJointLumping>
  </gazebo>
  <gazebo reference="r_foot_rear_ft_sensor">
    <preserveFixedJoint>true</preserveFixedJoint>
    <disableFixedJointLumping>true</disableFixedJointLumping>
  </gazebo>
  <gazebo reference="r_foot_front">
    <collision>
      <surface>
        <bounce>
          <restitution_coefficient>0</restitution_coefficient>
          <threshold>100000</threshold>
        </bounce>
      </surface>
    </collision>
    <maxContacts>4</maxContacts>
    <kp>18000000</kp>
    <kd>100</kd>
    <maxVel>100</maxVel>
    <minDepth>0.0001</minDepth>
    <mu1>1</mu1>
    <mu2>1</mu2>
    <fdir1>0 0 0</fdir1>
  </gazebo>
  <gazebo reference="r_foot_rear">
    <collision>
      <surface>
        <bounce>
          <restitution_coefficient>0</restitution_coefficient>
          <threshold>100000</threshold>
        </bounce>
      </surface>
    </collision>
    <maxContacts>4</maxContacts>
    <kp>18000000</kp>
    <kd>100</kd>
    <maxVel>100</maxVel>
    <minDepth>0.0001</minDepth>
    <mu1>1</mu1>
    <mu2>1</mu2>
    <fdir1>0 0 0</fdir1>
  </gazebo>
  <gazebo>
    <plugin name="controlboard_right_leg" filename="libgazebo_yarp_controlboard.so">
      <yarpConfigurationFile>model://iCub/conf_stickBot/gazebo_icub_right_leg/gazebo_icub_right_leg.ini</yarpConfigurationFile>
    </plugin>
  </gazebo>
  <gazebo reference="r_hip_pitch">
    <implicitSpringDamper>1</implicitSpringDamper>
  </gazebo>
  <gazebo reference="r_hip_roll">
    <implicitSpringDamper>1</implicitSpringDamper>
  </gazebo>
  <gazebo reference="r_hip_yaw">
    <implicitSpringDamper>1</implicitSpringDamper>
  </gazebo>
  <gazebo reference="r_knee">
    <implicitSpringDamper>1</implicitSpringDamper>
  </gazebo>
  <gazebo reference="r_ankle_pitch">
    <implicitSpringDamper>1</implicitSpringDamper>
  </gazebo>
  <gazebo reference="r_ankle_roll">
    <implicitSpringDamper>1</implicitSpringDamper>
  </gazebo>
  <gazebo>
    <plugin name="controlboard_head_without_eyes" filename="libgazebo_yarp_controlboard.so">
      <yarpConfigurationFile>model://iCub/conf_stickBot/gazebo_icub_head_without_eyes_V2_7/gazebo_icub_head_without_eyes_V2_7.ini</yarpConfigurationFile>
    </plugin>
  </gazebo>
  <gazebo reference="neck_pitch">
    <implicitSpringDamper>1</implicitSpringDamper>
  </gazebo>
  <gazebo reference="neck_roll">
    <implicitSpringDamper>1</implicitSpringDamper>
  </gazebo>
  <gazebo reference="neck_yaw">
    <implicitSpringDamper>1</implicitSpringDamper>
  </gazebo>
  <gazebo>
    <plugin name="controlboard_left_arm_no_hand" filename="libgazebo_yarp_controlboard.so">
      <yarpConfigurationFile>model://iCub/conf_stickBot/gazebo_icub_left_arm_no_hand_for_no_hand_model/gazebo_icub_left_arm_no_hand_for_no_hand_model.ini</yarpConfigurationFile>
      <initialConfiguration>-0.52 0.52 0 0.785 0 0 0.0</initialConfiguration>
    </plugin>
  </gazebo>
  <gazebo reference="l_shoulder_pitch">
    <implicitSpringDamper>1</implicitSpringDamper>
  </gazebo>
  <gazebo reference="l_shoulder_roll">
    <implicitSpringDamper>1</implicitSpringDamper>
  </gazebo>
  <gazebo reference="l_shoulder_yaw">
    <implicitSpringDamper>1</implicitSpringDamper>
  </gazebo>
  <gazebo reference="l_elbow">
    <implicitSpringDamper>1</implicitSpringDamper>
  </gazebo>
  <gazebo reference="l_wrist_prosup">
    <implicitSpringDamper>1</implicitSpringDamper>
  </gazebo>
  <gazebo reference="l_wrist_pitch">
    <implicitSpringDamper>1</implicitSpringDamper>
  </gazebo>
  <gazebo reference="l_wrist_yaw">
    <implicitSpringDamper>1</implicitSpringDamper>
  </gazebo>
  <gazebo>
    <plugin name="controlboard_right_arm_no_hand" filename="libgazebo_yarp_controlboard.so">
      <yarpConfigurationFile>model://iCub/conf_stickBot/gazebo_icub_right_arm_no_hand_for_no_hand_model/gazebo_icub_right_arm_no_hand_for_no_hand_model.ini</yarpConfigurationFile>
      <initialConfiguration>-0.52 0.52 0 0.785 0 0 0.0</initialConfiguration>
    </plugin>
  </gazebo>
  <gazebo reference="r_shoulder_pitch">
    <implicitSpringDamper>1</implicitSpringDamper>
  </gazebo>
  <gazebo reference="r_shoulder_roll">
    <implicitSpringDamper>1</implicitSpringDamper>
  </gazebo>
  <gazebo reference="r_shoulder_yaw">
    <implicitSpringDamper>1</implicitSpringDamper>
  </gazebo>
  <gazebo reference="r_elbow">
    <implicitSpringDamper>1</implicitSpringDamper>
  </gazebo>
  <gazebo reference="r_wrist_prosup">
    <implicitSpringDamper>1</implicitSpringDamper>
  </gazebo>
  <gazebo reference="r_wrist_pitch">
    <implicitSpringDamper>1</implicitSpringDamper>
  </gazebo>
  <gazebo reference="r_wrist_yaw">
    <implicitSpringDamper>1</implicitSpringDamper>
  </gazebo>
  <gazebo reference="l_arm_ft_sensor">
    <sensor name="l_arm_ft_sensor" type="force_torque">
      <always_on>1</always_on>
      <update_rate>100</update_rate>
      <force_torque>
        <frame>sensor</frame>
        <measure_direction>child_to_parent</measure_direction>
      </force_torque>
      <pose>-0.004350133156978329 3.632573233880443e-07 -0.05430003872406172 3.141592646862139 -3.104683320142575e-08 -1.5707962571980942</pose>
      <plugin name="left_arm_ft_plugin" filename="libgazebo_yarp_forcetorque.so">
        <yarpConfigurationString>(yarpDeviceName left_upper_arm_strain) (disableImplicitNetworkWrapper)</yarpConfigurationString>
      </plugin>
    </sensor>
  </gazebo>
  <sensor name="l_arm_ft_sensor" type="force_torque">
    <parent joint="l_arm_ft_sensor"/>
    <force_torque>
      <frame>sensor</frame>
      <measure_direction>child_to_parent</measure_direction>
    </force_torque>
    <origin rpy="3.141592646862139 -3.104683320142575e-08 -1.5707962571980942" xyz="-0.004350133156978329 3.632573233880443e-07 -0.05430003872406172"/>
  </sensor>
  <gazebo reference="r_arm_ft_sensor">
    <sensor name="r_arm_ft_sensor" type="force_torque">
      <always_on>1</always_on>
      <update_rate>100</update_rate>
      <force_torque>
        <frame>sensor</frame>
        <measure_direction>child_to_parent</measure_direction>
      </force_torque>
      <pose>-0.006849946385389875 2.1904996055921444e-07 -0.05429998157789099 3.141592644717707 4.094299285979593e-08 1.5707964185756365</pose>
      <plugin name="right_arm_ft_plugin" filename="libgazebo_yarp_forcetorque.so">
        <yarpConfigurationString>(yarpDeviceName right_upper_arm_strain) (disableImplicitNetworkWrapper)</yarpConfigurationString>
      </plugin>
    </sensor>
  </gazebo>
  <sensor name="r_arm_ft_sensor" type="force_torque">
    <parent joint="r_arm_ft_sensor"/>
    <force_torque>
      <frame>sensor</frame>
      <measure_direction>child_to_parent</measure_direction>
    </force_torque>
    <origin rpy="3.141592644717707 4.094299285979593e-08 1.5707964185756365" xyz="-0.006849946385389875 2.1904996055921444e-07 -0.05429998157789099"/>
  </sensor>
  <gazebo reference="l_foot_front_ft_sensor">
    <sensor name="l_foot_front_ft_sensor" type="force_torque">
      <always_on>1</always_on>
      <update_rate>100</update_rate>
      <force_torque>
        <frame>sensor</frame>
        <measure_direction>parent_to_child</measure_direction>
      </force_torque>
      <pose>0.0 0.0 0.022299999999999986 0.0 -0.0 -2.094395210586932</pose>
      <plugin name="left_foot_front_ft_plugin" filename="libgazebo_yarp_forcetorque.so">
        <yarpConfigurationString>(yarpDeviceName left_lower_leg_front_strain) (disableImplicitNetworkWrapper)</yarpConfigurationString>
      </plugin>
    </sensor>
  </gazebo>
  <sensor name="l_foot_front_ft_sensor" type="force_torque">
    <parent joint="l_foot_front_ft_sensor"/>
    <force_torque>
      <frame>sensor</frame>
      <measure_direction>parent_to_child</measure_direction>
    </force_torque>
    <origin rpy="0.0 -0.0 -2.094395210586932" xyz="0.0 0.0 0.022299999999999986"/>
  </sensor>
  <gazebo reference="l_foot_rear_ft_sensor">
    <sensor name="l_foot_rear_ft_sensor" type="force_torque">
      <always_on>1</always_on>
      <update_rate>100</update_rate>
      <force_torque>
        <frame>sensor</frame>
        <measure_direction>parent_to_child</measure_direction>
      </force_torque>
      <pose>0.0 0.0 0.022299999999999986 0.0 -0.0 -2.094395210586932</pose>
      <plugin name="left_foot_rear_ft_plugin" filename="libgazebo_yarp_forcetorque.so">
        <yarpConfigurationString>(yarpDeviceName left_lower_leg_rear_strain) (disableImplicitNetworkWrapper)</yarpConfigurationString>
      </plugin>
    </sensor>
  </gazebo>
  <sensor name="l_foot_rear_ft_sensor" type="force_torque">
    <parent joint="l_foot_rear_ft_sensor"/>
    <force_torque>
      <frame>sensor</frame>
      <measure_direction>parent_to_child</measure_direction>
    </force_torque>
    <origin rpy="0.0 -0.0 -2.094395210586932" xyz="0.0 0.0 0.022299999999999986"/>
  </sensor>
  <gazebo reference="r_foot_front_ft_sensor">
    <sensor name="r_foot_front_ft_sensor" type="force_torque">
      <always_on>1</always_on>
      <update_rate>100</update_rate>
      <force_torque>
        <frame>sensor</frame>
        <measure_direction>parent_to_child</measure_direction>
      </force_torque>
      <pose>0.0 0.0 0.022299999999999986 0.0 -0.0 -2.094395210586932</pose>
      <plugin name="right_foot_front_ft_plugin" filename="libgazebo_yarp_forcetorque.so">
        <yarpConfigurationString>(yarpDeviceName right_lower_leg_front_strain) (disableImplicitNetworkWrapper)</yarpConfigurationString>
      </plugin>
    </sensor>
  </gazebo>
  <sensor name="r_foot_front_ft_sensor" type="force_torque">
    <parent joint="r_foot_front_ft_sensor"/>
    <force_torque>
      <frame>sensor</frame>
      <measure_direction>parent_to_child</measure_direction>
    </force_torque>
    <origin rpy="0.0 -0.0 -2.094395210586932" xyz="0.0 0.0 0.022299999999999986"/>
  </sensor>
  <gazebo reference="r_foot_rear_ft_sensor">
    <sensor name="r_foot_rear_ft_sensor" type="force_torque">
      <always_on>1</always_on>
      <update_rate>100</update_rate>
      <force_torque>
        <frame>sensor</frame>
        <measure_direction>parent_to_child</measure_direction>
      </force_torque>
      <pose>0.0 0.0 0.022299999999999986 0.0 -0.0 -2.094395210586932</pose>
      <plugin name="right_foot_rear_ft_plugin" filename="libgazebo_yarp_forcetorque.so">
        <yarpConfigurationString>(yarpDeviceName right_lower_leg_rear_strain) (disableImplicitNetworkWrapper)</yarpConfigurationString>
      </plugin>
    </sensor>
  </gazebo>
  <sensor name="r_foot_rear_ft_sensor" type="force_torque">
    <parent joint="r_foot_rear_ft_sensor"/>
    <force_torque>
      <frame>sensor</frame>
      <measure_direction>parent_to_child</measure_direction>
    </force_torque>
    <origin rpy="0.0 -0.0 -2.094395210586932" xyz="0.0 0.0 0.022299999999999986"/>
  </sensor>
  <gazebo reference="head">
    <sensor name="head_imu_acc_1x1" type="imu">
      <always_on>1</always_on>
      <update_rate>100</update_rate>
      <pose>0.0034999999997785457 0.0054999999863750895 0.1013340000004441 -3.141592653589793 -4.20000162559822e-15 -1.570796326794897</pose>
      <plugin name="iCub_yarp_gazebo_plugin_IMU" filename="libgazebo_yarp_imu.so">
        <yarpConfigurationString>(yarpDeviceName head-inertial) (disableImplicitNetworkWrapper)</yarpConfigurationString>
      </plugin>
    </sensor>
  </gazebo>
  <sensor name="head_imu_acc_1x1" type="accelerometer">
    <parent link="head"/>
    <origin rpy="-3.141592653589793 -4.20000162559822e-15 -1.570796326794897" xyz="0.0034999999997785457 0.0054999999863750895 0.1013340000004441"/>
  </sensor>

 <!-- <gazebo reference="camera_tilt">
    <sensor name="realsense_head_rgbd" type="depth">
      <always_on>1</always_on>
      <update_rate>30</update_rate>
      <pose>-0.0113 0.0 0.0 0.0 -1.57079 0.0</pose>
      <camera name="intel_realsense_rgbd_camera">
        <pose>0 0 0 -1.57079 -1.57079 3.14159</pose>
        <horizontal_fov>2.1</horizontal_fov>
        <distortion>
          <k1>0</k1>
          <k2>0</k2>
          <k3>0</k3>
          <p1>0</p1>
          <p2>0</p2>
          <center>319.5 239.5</center>
        </distortion>
        <image>
          <width>640</width>
          <height>480</height>
          <format>R8G8B8</format>
        </image>
        <clip>
          <near>0.02</near>
          <far>3000</far>
        </clip>
      </camera>
      <visualize>false</visualize>
      <plugin name="depth_camera_plugin" filename="libgazebo_yarp_depthCamera.so">
        <yarpConfigurationFile>model://iCub/conf_stickBot/gazebo_icub_rgbd_camera_eyes/gazebo_icub_rgbd_camera_eyes.ini</yarpConfigurationFile>
      </plugin>
    </sensor>
  </gazebo>
  <sensor name="realsense_head_rgbd" type="camera">
    <parent link="camera_tilt"/>
    <origin rpy="0.0 -1.57079 0.0" xyz="-0.0113 0.0 0.0"/>
  </sensor>-->

  <!--<gazebo reference="lidar">
    <sensor name="lasersensor_head" type="ray">
        <always_on>1</always_on>
        <update_rate>40</update_rate>
        <pose frame=''>0.0 0.0 0.0105 0.0 0.0 0.0</pose>
        <visualize>true</visualize>
        <ray>
          <scan>
            <horizontal>
              <samples>360</samples>
              <resolution>2</resolution>
              <min_angle>0</min_angle>
              <max_angle>6.28</max_angle>
            </horizontal>
          </scan>
          <range>
            <min>0.04</min>
            <max>5</max>
            <resolution>0.01</resolution>
          </range>
          <noise>
            <type>gaussian</type>
            <mean>0</mean>
            <stddev>0.005</stddev>
          </noise>
        </ray>
      <plugin name="lasersensor" filename="libgazebo_yarp_lasersensor.so">
        <yarpConfigurationFile>model://iCub/conf_stickBot/gazebo_icub_laser/gazebo_icub_laser.ini</yarpConfigurationFile>
      </plugin>
    </sensor>
  </gazebo>
  <sensor name="lasersensor_head" type="ray">
    <parent link="lidar"/>
    <origin rpy="0.0 0.0 0.0" xyz="0.0 0.0 0.0105"/>
  </sensor> -->

  <gazebo reference="chest">
    <sensor name="chest_imu_acc_1x1" type="imu">
      <always_on>1</always_on>
      <update_rate>100</update_rate>
      <pose>0.0894115 0.0175 0.09929950000000001 -1.5707963267948968 -0.0 -1.5707963267948968</pose>
      <plugin name="iCub_yarp_gazebo_plugin_IMU" filename="libgazebo_yarp_imu.so">
        <yarpConfigurationString>(yarpDeviceName chest-inertial) (disableImplicitNetworkWrapper)</yarpConfigurationString>
      </plugin>
    </sensor>
  </gazebo>
  <sensor name="chest_imu_acc_1x1" type="accelerometer">
    <parent link="chest"/>
    <origin rpy="-1.5707963267948968 -0.0 -1.5707963267948968" xyz="0.0894115 0.0175 0.09929950000000001"/>
  </sensor>
  <gazebo>
      <plugin name="robotinterface" filename="libgazebo_yarp_robotinterface.so">
      <yarpRobotInterfaceConfigurationFile>model://iCub/conf_stickBot/icub.xml</yarpRobotInterfaceConfigurationFile>
    </plugin>
  </gazebo>
  <gazebo>
    <pose>0.0 0.0 0.64 0.0 0.0 0.0</pose>
  </gazebo>
</robot>
